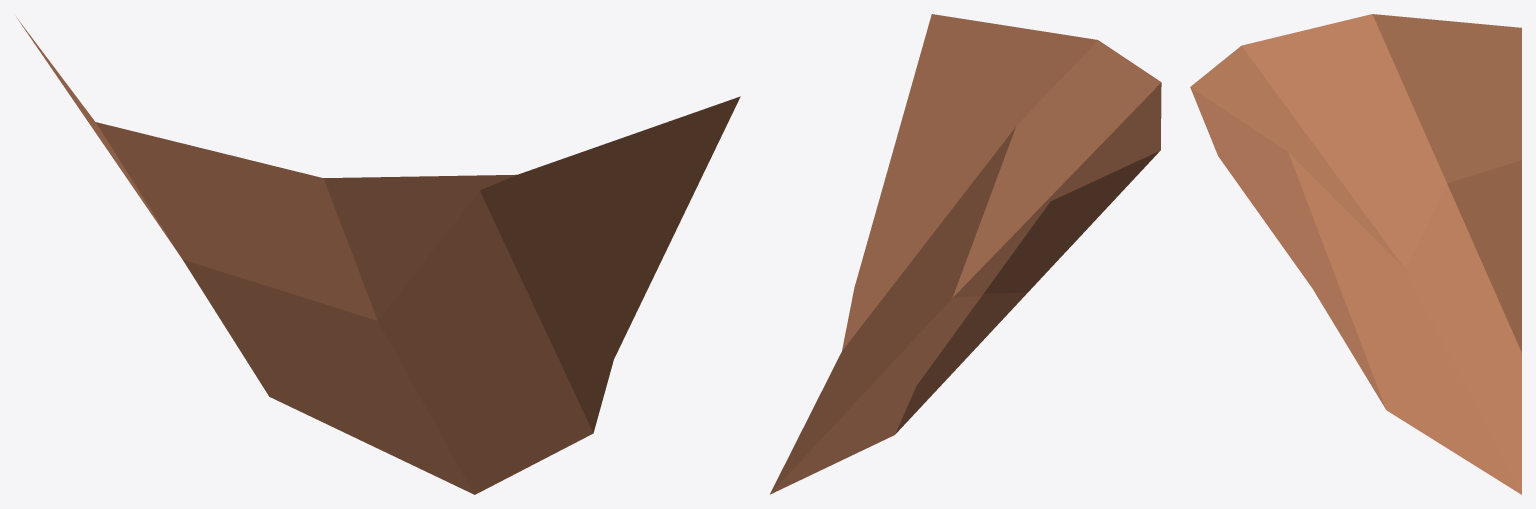
The model's file is Corner Bottom.fbx.
The picture shows the model from 3 angles, left to right: view 1: azimuth 30°, elevation 25°; view 2: azimuth 150°, elevation 25°; view 3: azimuth 270°, elevation 25°; orthographic projection. The views are drawn at different scales.
Parts seen in each view (by area): view 1: Corner Bottom; view 2: Corner Bottom; view 3: Corner Bottom.
Boxes of the visible parts, left/top/right/bottom form: Corner Bottom: left=16, top=17, right=740, bottom=494; Corner Bottom: left=770, top=14, right=1161, bottom=494; Corner Bottom: left=1190, top=14, right=1521, bottom=494.
Size of the model in its own units: 36 by 40 by 35.5.
